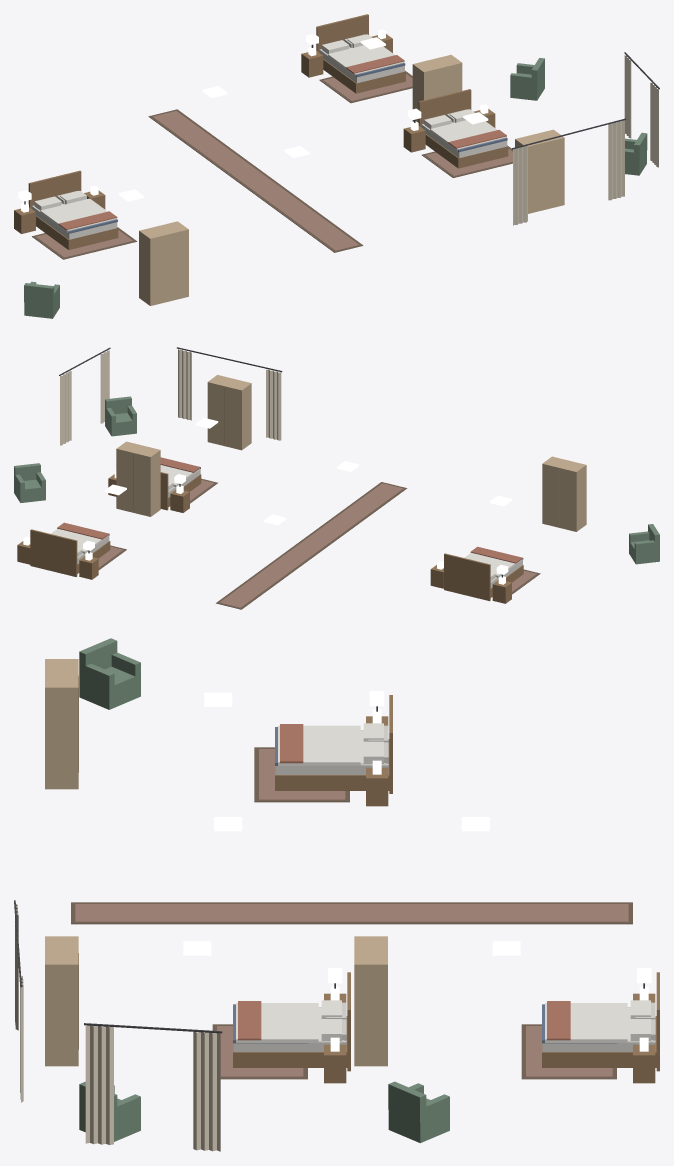
Rendered from fine-s2.glb.
The picture shows the model from 3 angles, top to bottom: view 1: azimuth 30°, elevation 25°; view 2: azimuth 150°, elevation 25°; view 3: azimuth 270°, elevation 25°; orthographic projection. The views are drawn at different scales.
Parts seen in each view (by area): view 1: soft-s2, dresser.003, dresser.005, bed-frame.005, bed-frame.003, bed-frame.004, dresser.004, lounge-chair.004, lounge-chair.003, lounge-chair.005, nightstand.010, nightstand.008 (+1 smaller); view 2: soft-s2, dresser.003, dresser.004, dresser.005, bed-frame.004, bed-frame.003, lounge-chair.005, lounge-chair.004, lounge-chair.003, bed-frame.005, nightstand.006, nightstand.008 (+1 smaller); view 3: soft-s2, dresser.003, dresser.004, dresser.005, lounge-chair.003, bed-frame.003, bed-frame.005, bed-frame.004, lounge-chair.004, lounge-chair.005, nightstand.007, nightstand.009 (+1 smaller).
Boxes of the visible parts, x1=… form: soft-s2: x1=18, y1=33, x2=659, y2=259; dresser.003: x1=139, y1=221, x2=188, y2=305; dresser.005: x1=515, y1=129, x2=564, y2=213; bed-frame.005: x1=418, y1=89, x2=508, y2=168; bed-frame.003: x1=28, y1=170, x2=118, y2=249; bed-frame.004: x1=316, y1=14, x2=405, y2=93; dresser.004: x1=412, y1=54, x2=462, y2=122; lounge-chair.004: x1=510, y1=58, x2=544, y2=100; lounge-chair.003: x1=24, y1=281, x2=59, y2=318; lounge-chair.005: x1=625, y1=132, x2=647, y2=175; nightstand.010: x1=403, y1=121, x2=425, y2=152; nightstand.008: x1=301, y1=46, x2=323, y2=77; soft-s2: x1=51, y1=347, x2=540, y2=609; dresser.003: x1=542, y1=456, x2=586, y2=531; dresser.004: x1=116, y1=441, x2=160, y2=516; dresser.005: x1=207, y1=375, x2=251, y2=450; bed-frame.004: x1=30, y1=529, x2=110, y2=576; bed-frame.003: x1=444, y1=553, x2=523, y2=601; lounge-chair.005: x1=105, y1=396, x2=136, y2=436; lounge-chair.004: x1=14, y1=463, x2=45, y2=502; lounge-chair.003: x1=629, y1=524, x2=659, y2=564; bed-frame.005: x1=160, y1=467, x2=201, y2=510; nightstand.006: x1=492, y1=576, x2=511, y2=603; nightstand.008: x1=79, y1=552, x2=98, y2=579; soft-s2: x1=14, y1=691, x2=653, y2=1151; dresser.003: x1=45, y1=659, x2=78, y2=789; dresser.004: x1=354, y1=936, x2=387, y2=1066; dresser.005: x1=45, y1=936, x2=78, y2=1066; lounge-chair.003: x1=79, y1=638, x2=140, y2=709; bed-frame.003: x1=275, y1=695, x2=392, y2=793; bed-frame.005: x1=233, y1=972, x2=350, y2=1071; bed-frame.004: x1=542, y1=972, x2=659, y2=1071; lounge-chair.004: x1=388, y1=1081, x2=449, y2=1143; lounge-chair.005: x1=79, y1=1081, x2=140, y2=1141; nightstand.007: x1=366, y1=760, x2=388, y2=806; nightstand.009: x1=633, y1=1037, x2=655, y2=1083.
Size of the model in its own units: 19.83 by 2.41 by 11.51.
